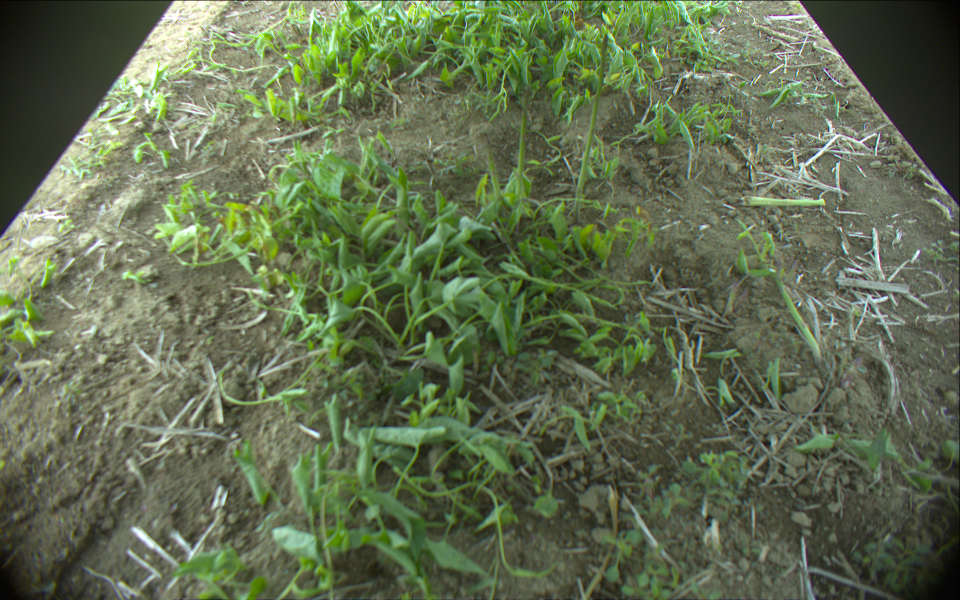aspa: (571, 33, 609, 220), (771, 259, 822, 361), (514, 93, 533, 203), (479, 136, 504, 205), (740, 195, 825, 206)
